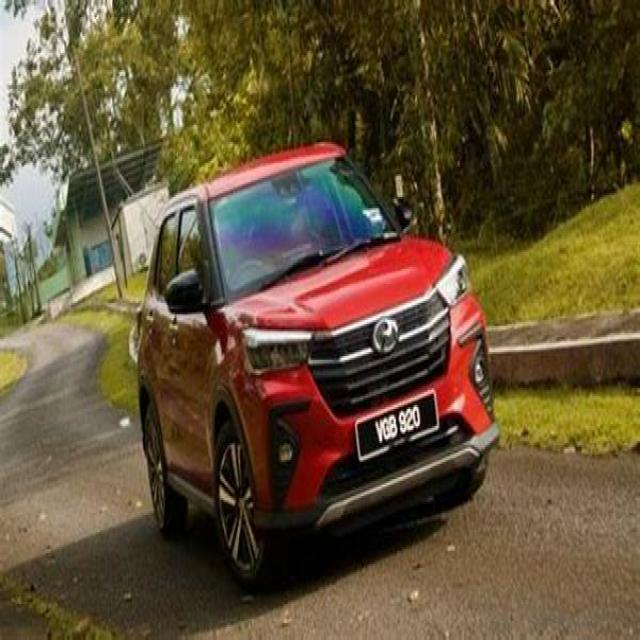PeroduaAtiva: (129, 136, 500, 587)
